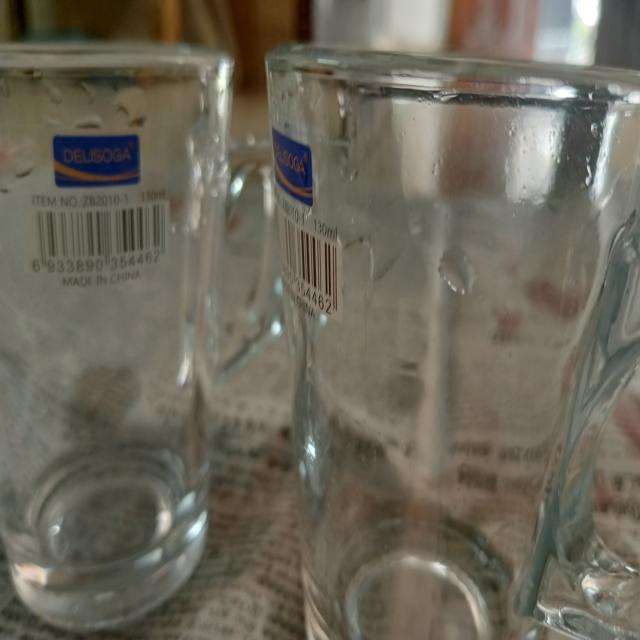glass-VX4N: (265, 55, 640, 640), (4, 43, 263, 640)
